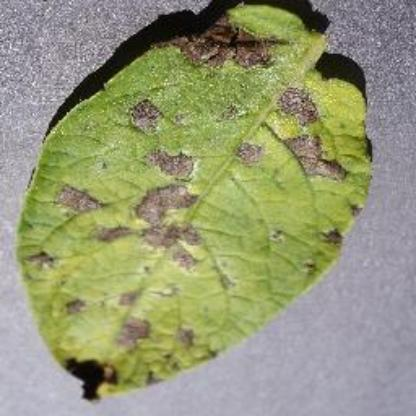Early-Blight: (18, 0, 378, 402)
